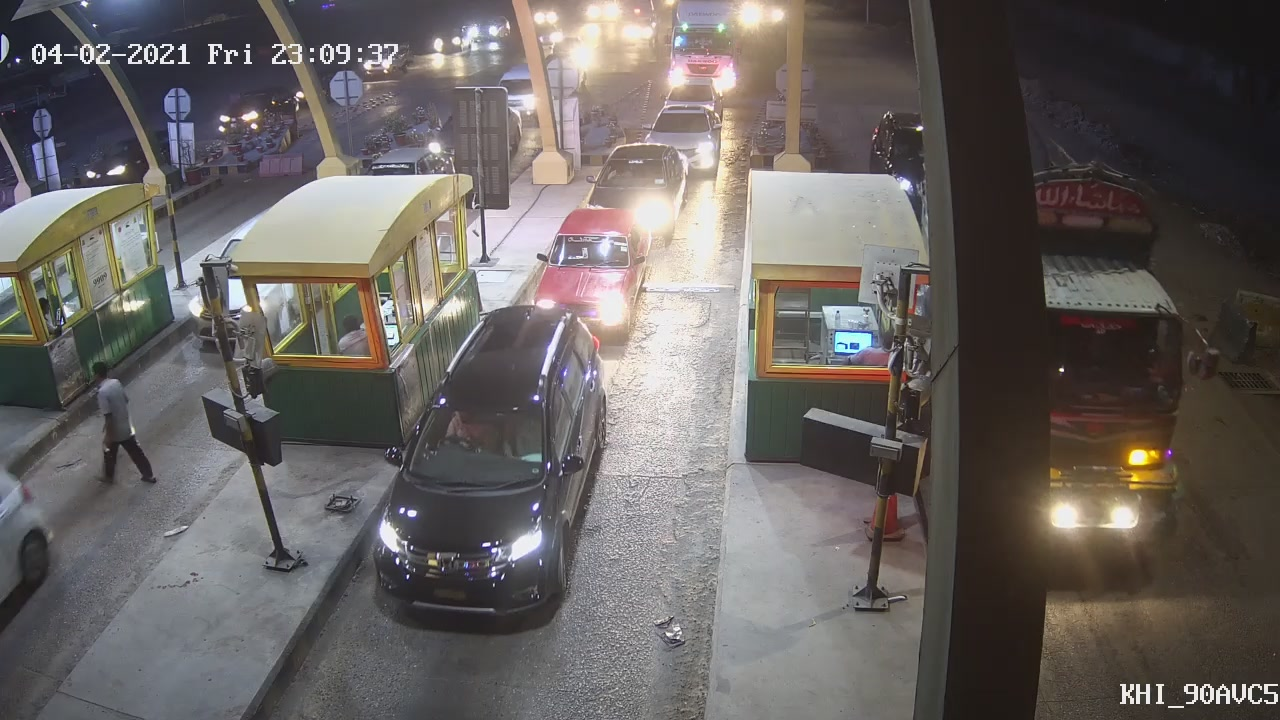F1: (363, 302, 610, 626)
